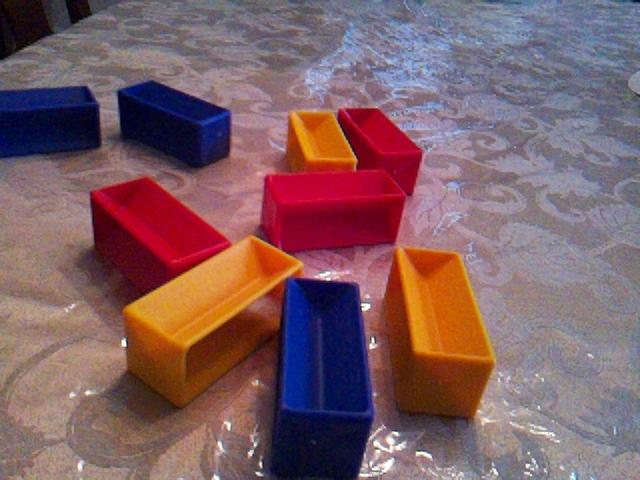blue: (269, 275, 376, 479), (116, 77, 233, 169), (1, 83, 103, 159)
red: (89, 174, 232, 295), (260, 167, 407, 253), (338, 105, 424, 196)
yellow: (122, 233, 305, 409), (383, 244, 498, 419), (285, 109, 359, 173)
